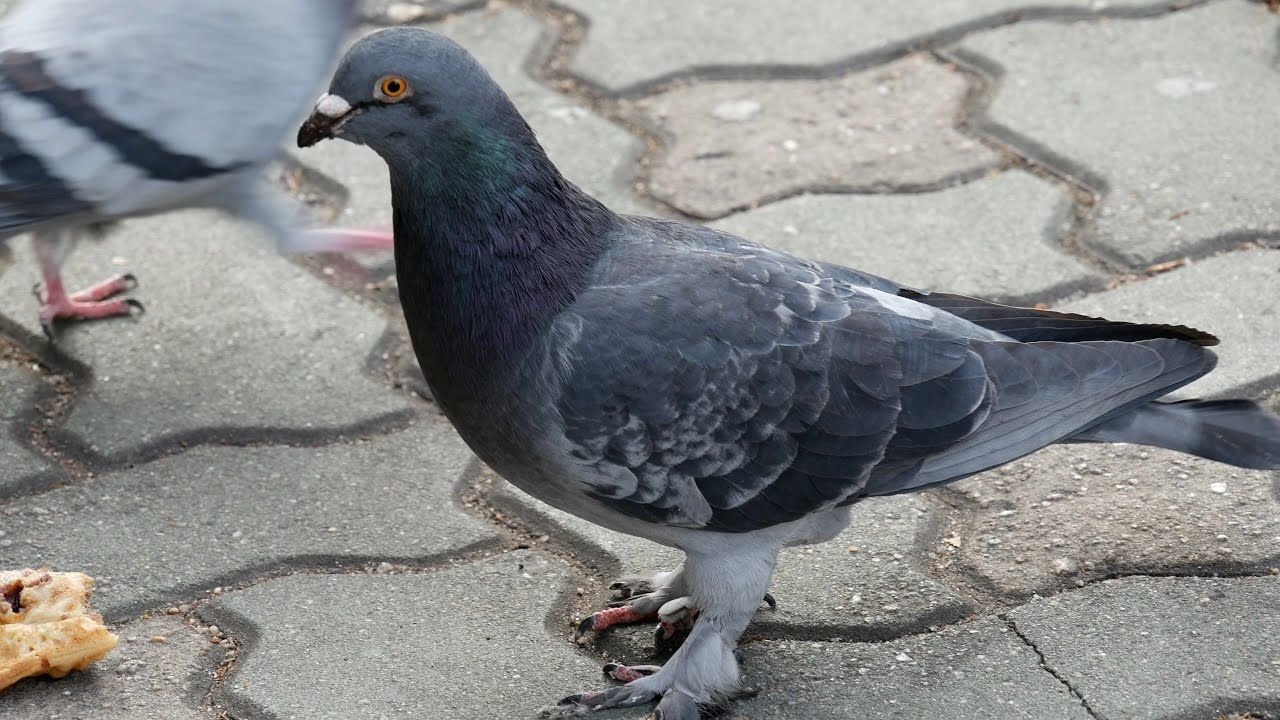pheasant: (298, 25, 1196, 658)
